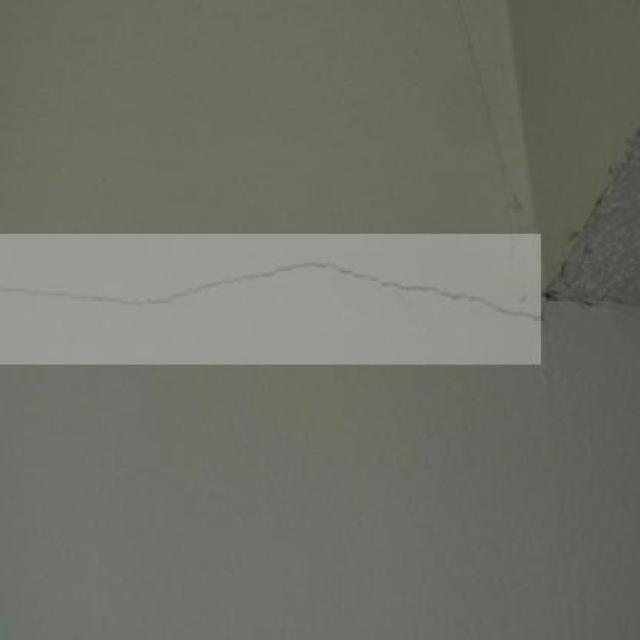Crack: (2, 234, 546, 333), (444, 4, 527, 191)
